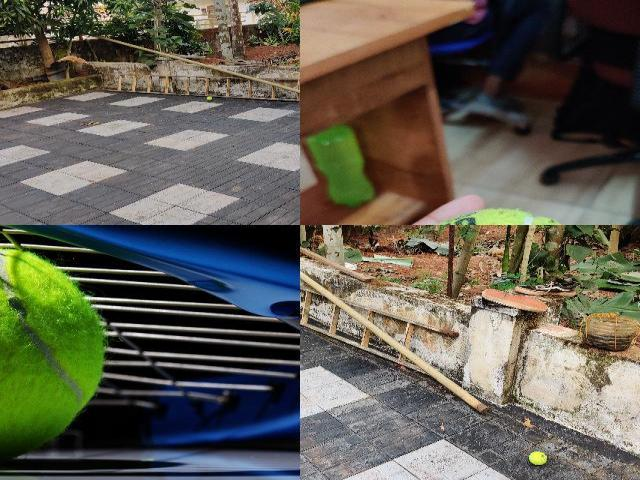tennis-ball: (0, 236, 106, 462), (432, 209, 566, 226), (528, 451, 546, 465), (206, 96, 212, 100)
